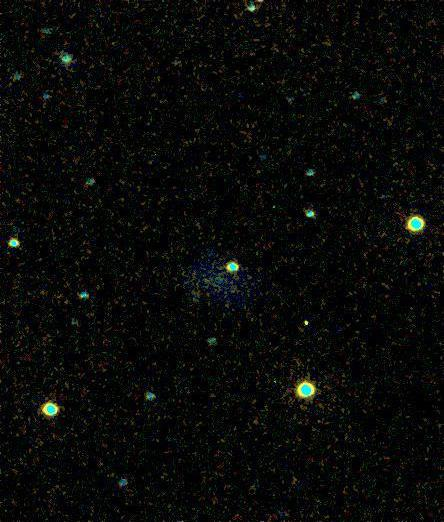star: (295, 307, 325, 337)
